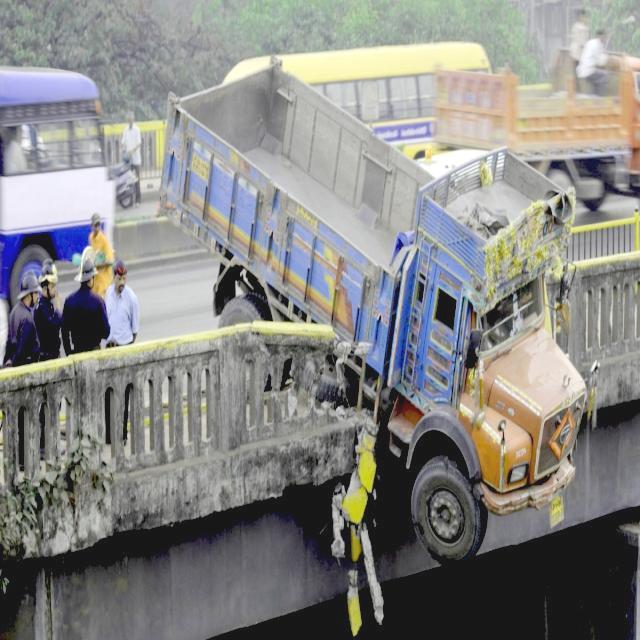accident: (152, 56, 604, 640)
